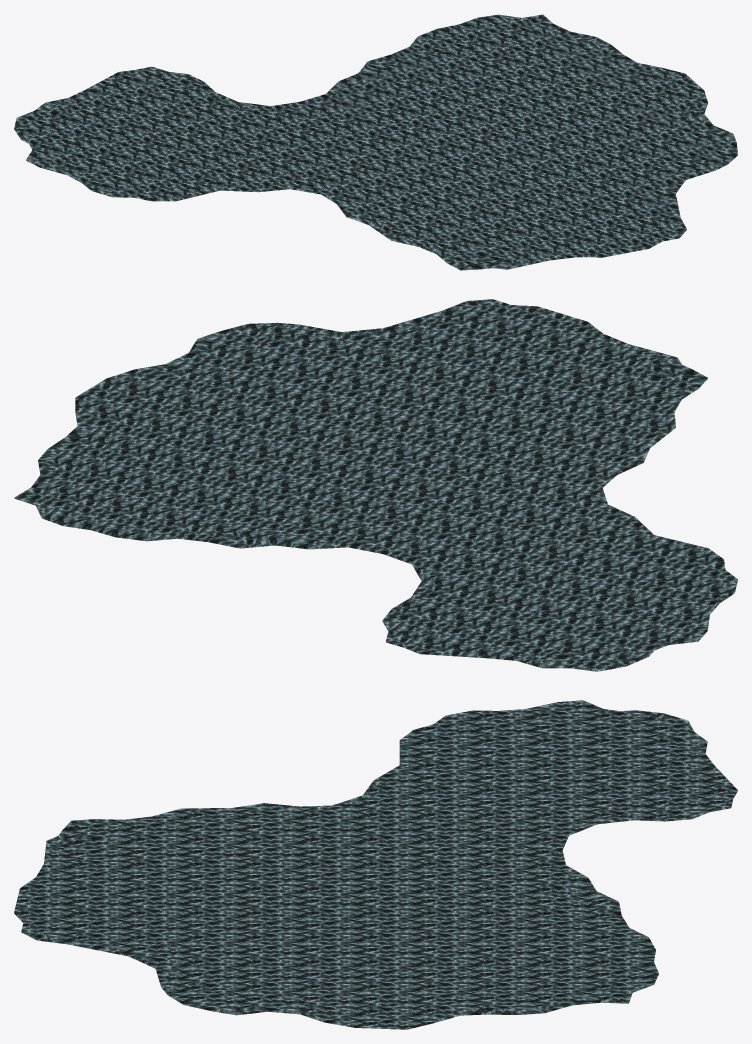
Rendered from OZ_28_mi_pond01B.glb.
3 renders of one model, top to bottom at view 1: azimuth 30°, elevation 25°; view 2: azimuth 150°, elevation 25°; view 3: azimuth 270°, elevation 25°, orthographic. The views are drawn at different scales.
Parts seen in each view (by area): view 1: OM_28_mi_pond01B; view 2: OM_28_mi_pond01B; view 3: OM_28_mi_pond01B.
Part boxes in pixels (<box>): OM_28_mi_pond01B: <box>14,14,737,270</box>; OM_28_mi_pond01B: <box>14,299,737,671</box>; OM_28_mi_pond01B: <box>14,700,737,1029</box>.
Size of the model in its own units: 79.96 by 0.0787 by 74.42.
2 materials, 2 textured.
